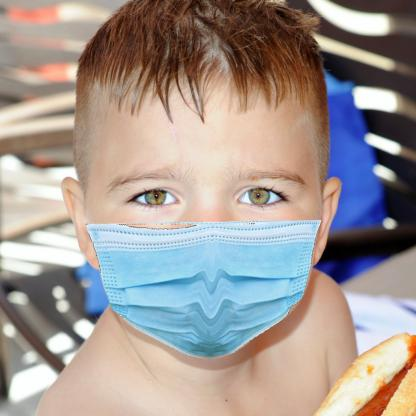Correctly_Masked: (74, 68, 333, 362)
